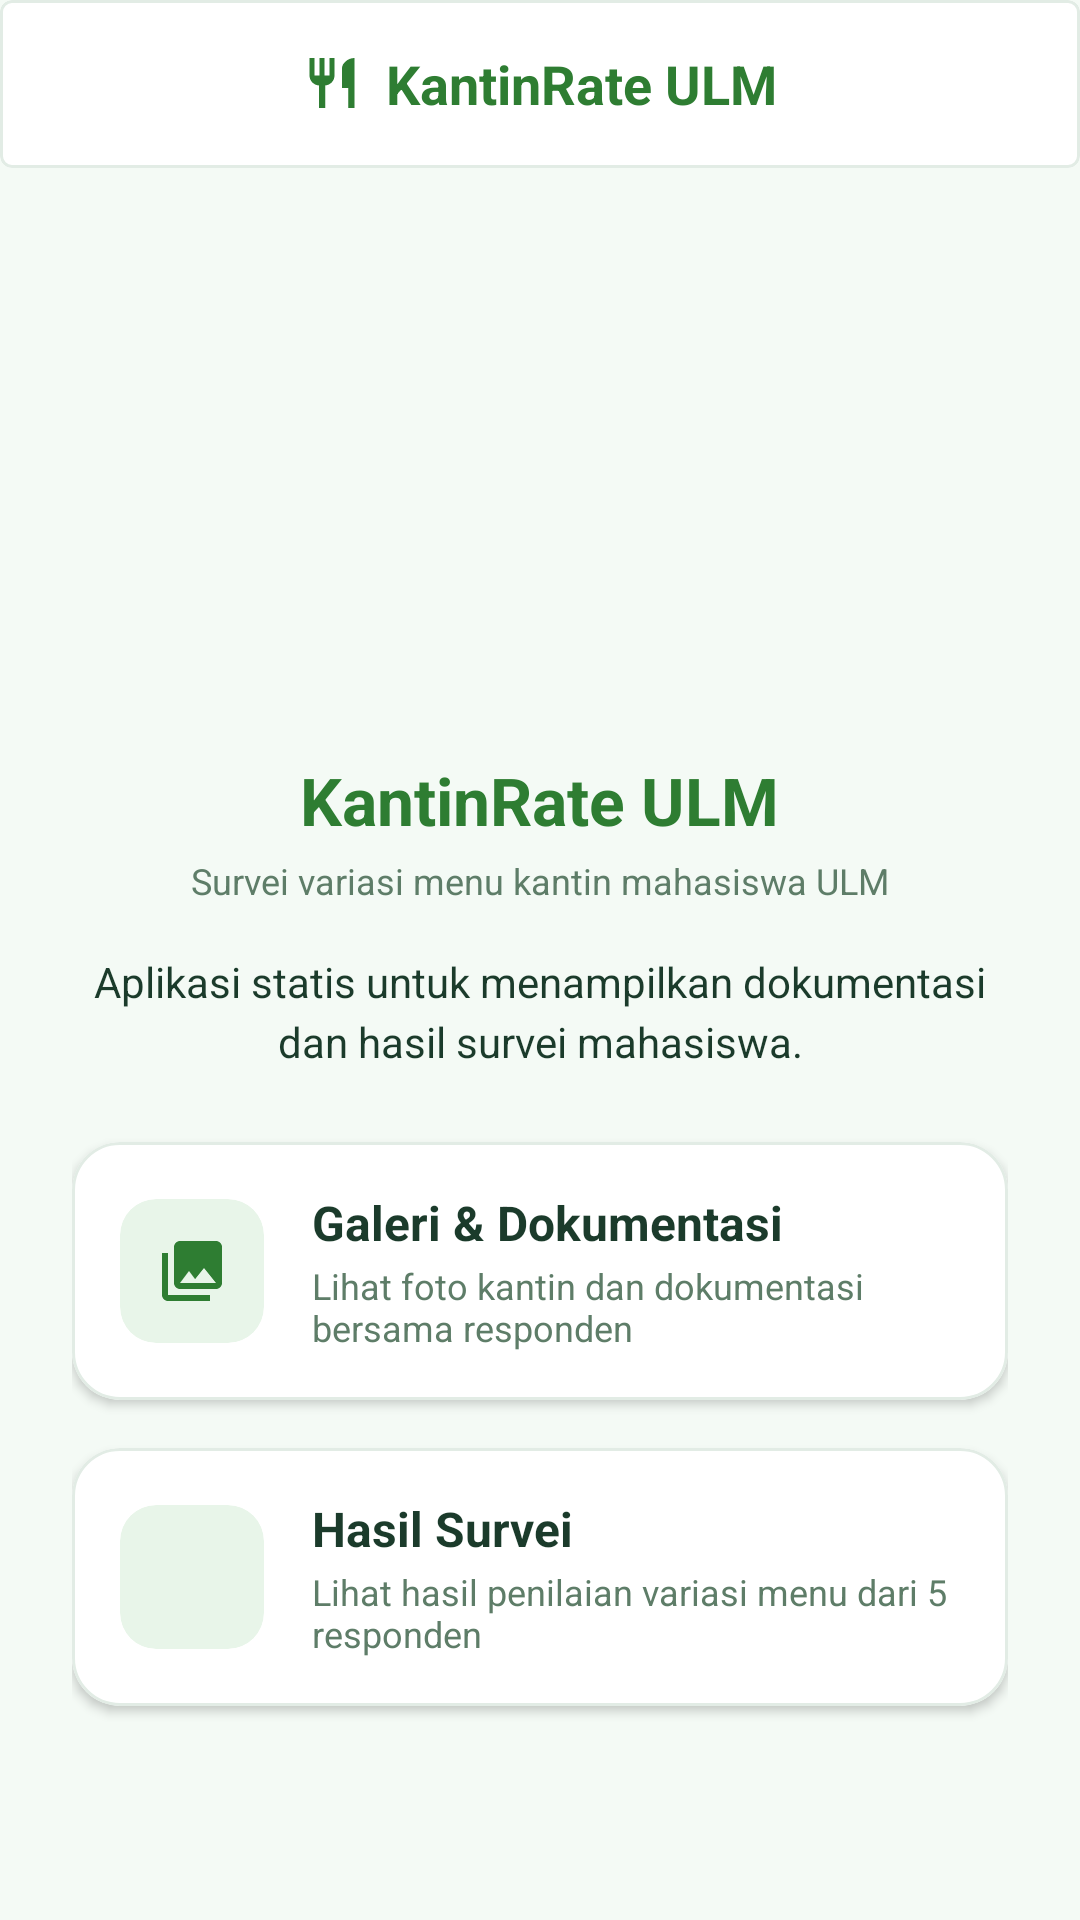

Icon bounding boxes for this 1080 × 1920 phone screenshot, format [left=x1, top=y1, right=x2, bottom=y2]:
fork spoon: [left=309, top=58, right=355, bottom=108]
Gallery Icon: [left=162, top=1241, right=222, bottom=1301]
